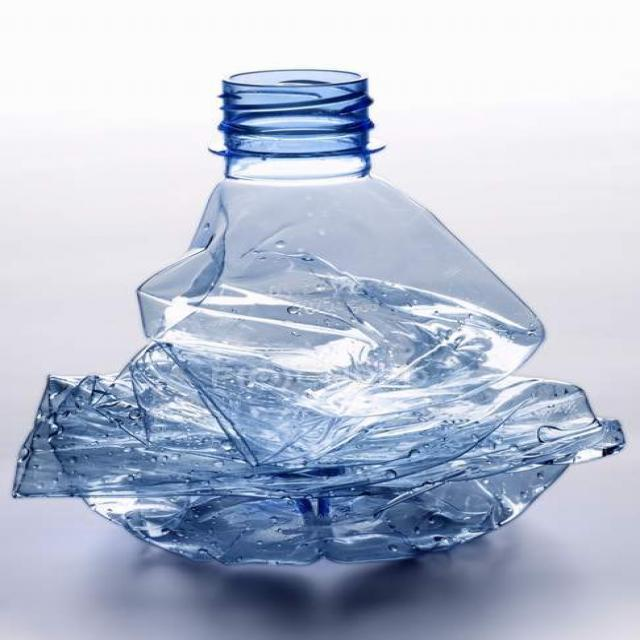Botella Plastica: (16, 76, 637, 558)
